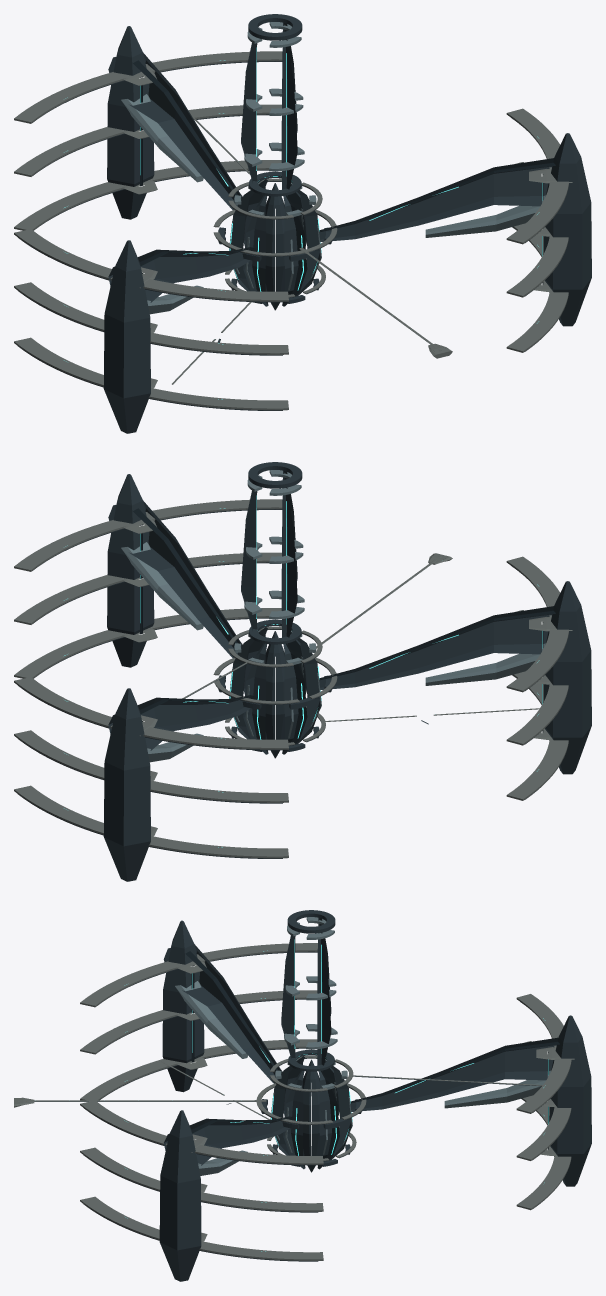
The model's file is Reactor_Architecture_Godot.glb.
3 views of the same model, one above another, from view 1: azimuth 30°, elevation 25°; view 2: azimuth 150°, elevation 25°; view 3: azimuth 270°, elevation 25° (orthographic). The views are drawn at different scales.
Parts seen in each view (by area): view 1: Anchor 2 | embedded alien stele, B3 | sweeping suspension monolith, Anchor 3 | embedded alien stele, Anchor 1 | embedded alien stele, B1 | sweeping suspension monolith, L3 | wall terrace 2, L3 | wall terrace 1, B2 | sweeping suspension monolith, L1 | wall terrace 2, L2 | wall terrace 2, L3 | wall terrace 3, L1 | wall terrace 1 (+17 smaller); view 2: Anchor 1 | embedded alien stele, B2 | sweeping suspension monolith, Anchor 2 | embedded alien stele, Anchor 3 | embedded alien stele, B3 | sweeping suspension monolith, L3 | wall terrace 1, L3 | wall terrace 3, B1 | sweeping suspension monolith, L1 | wall terrace 1, L2 | wall terrace 1, L3 | wall terrace 2, L1 | wall terrace 3 (+17 smaller); view 3: Anchor 3 | embedded alien stele, B1 | sweeping suspension monolith, Anchor 1 | embedded alien stele, Anchor 2 | embedded alien stele, B2 | sweeping suspension monolith, L3 | wall terrace 3, L3 | wall terrace 2, B3 | sweeping suspension monolith, L2 | wall terrace 3, L1 | wall terrace 3, L3 | wall terrace 1, L1 | wall terrace 2 (+16 smaller).
Boxes of the visible parts, <box> form: Anchor 2 | embedded alien stele: <box>103,240,150,433</box>; B3 | sweeping suspension monolith: <box>319,158,553,241</box>; Anchor 3 | embedded alien stele: <box>544,133,591,326</box>; Anchor 1 | embedded alien stele: <box>107,26,154,219</box>; B1 | sweeping suspension monolith: <box>108,52,242,209</box>; L3 | wall terrace 2: <box>14,229,288,301</box>; L3 | wall terrace 1: <box>14,51,282,123</box>; B2 | sweeping suspension monolith: <box>108,247,256,302</box>; L1 | wall terrace 2: <box>14,337,288,410</box>; L2 | wall terrace 2: <box>14,282,288,354</box>; L3 | wall terrace 3: <box>506,108,568,244</box>; L1 | wall terrace 1: <box>14,160,281,230</box>; Anchor 1 | embedded alien stele: <box>103,688,150,881</box>; B2 | sweeping suspension monolith: <box>319,606,553,689</box>; Anchor 2 | embedded alien stele: <box>544,581,591,774</box>; Anchor 3 | embedded alien stele: <box>107,474,154,667</box>; B3 | sweeping suspension monolith: <box>108,500,242,657</box>; L3 | wall terrace 1: <box>14,677,288,749</box>; L3 | wall terrace 3: <box>14,499,282,571</box>; B1 | sweeping suspension monolith: <box>108,695,256,750</box>; L1 | wall terrace 1: <box>14,785,288,858</box>; L2 | wall terrace 1: <box>14,730,288,802</box>; L3 | wall terrace 2: <box>506,556,568,692</box>; L1 | wall terrace 3: <box>14,608,281,678</box>; Anchor 3 | embedded alien stele: <box>159,1110,201,1281</box>; B1 | sweeping suspension monolith: <box>350,1037,558,1111</box>; Anchor 1 | embedded alien stele: <box>549,1015,591,1186</box>; Anchor 2 | embedded alien stele: <box>162,920,204,1092</box>; B2 | sweeping suspension monolith: <box>163,944,282,1083</box>; L3 | wall terrace 3: <box>80,1100,323,1164</box>; L3 | wall terrace 2: <box>80,943,317,1007</box>; B3 | sweeping suspension monolith: <box>164,1116,295,1165</box>; L2 | wall terrace 3: <box>80,1147,323,1211</box>; L1 | wall terrace 3: <box>80,1196,323,1260</box>; L3 | wall terrace 1: <box>516,994,571,1113</box>; L1 | wall terrace 2: <box>80,1039,317,1100</box>.
Bounding box in the file's own units: 2504 × 1399 × 2778.
